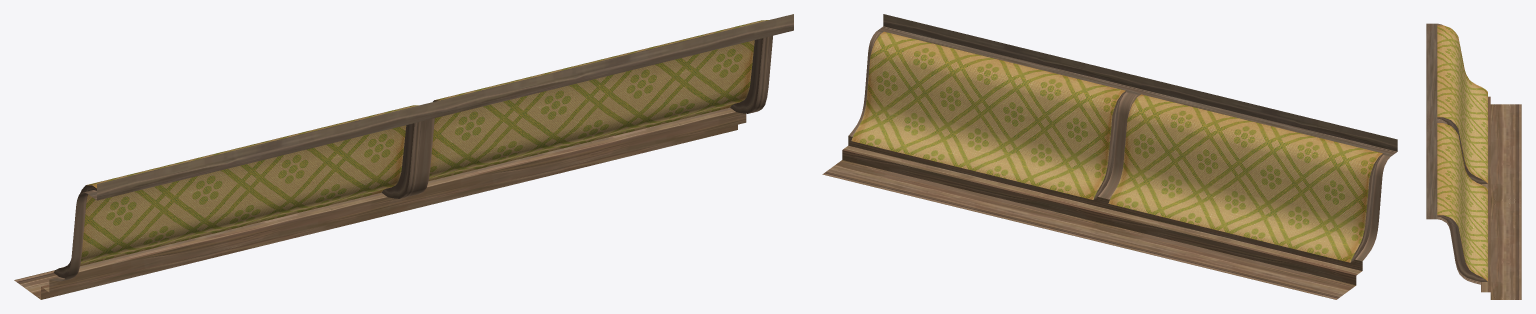
File: Roof_Edge_200x50x50_01_Mesh.fbx
3 views of the same model, side by side, from view 1: azimuth 30°, elevation 25°; view 2: azimuth 150°, elevation 25°; view 3: azimuth 270°, elevation 25° (orthographic). The views are drawn at different scales.
Parts seen in each view (by area): view 1: Roof_Edge_200x50x50_01_LOD0; view 2: Roof_Edge_200x50x50_01_LOD0; view 3: Roof_Edge_200x50x50_01_LOD0.
Part boxes in pixels (x1,y1,x2,y2): Roof_Edge_200x50x50_01_LOD0: [14, 14, 793, 299]; Roof_Edge_200x50x50_01_LOD0: [822, 14, 1397, 299]; Roof_Edge_200x50x50_01_LOD0: [1426, 23, 1521, 299].
Size of the model in its own units: 200 by 43.01 by 41.24.
